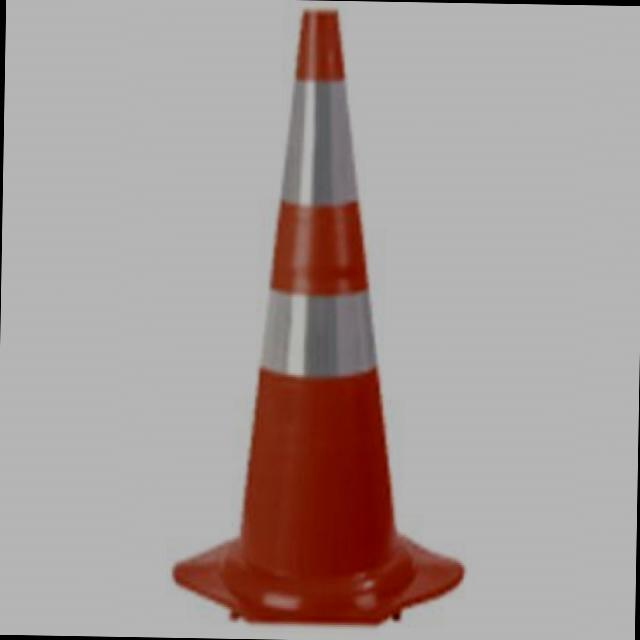cone: (170, 0, 505, 640)
